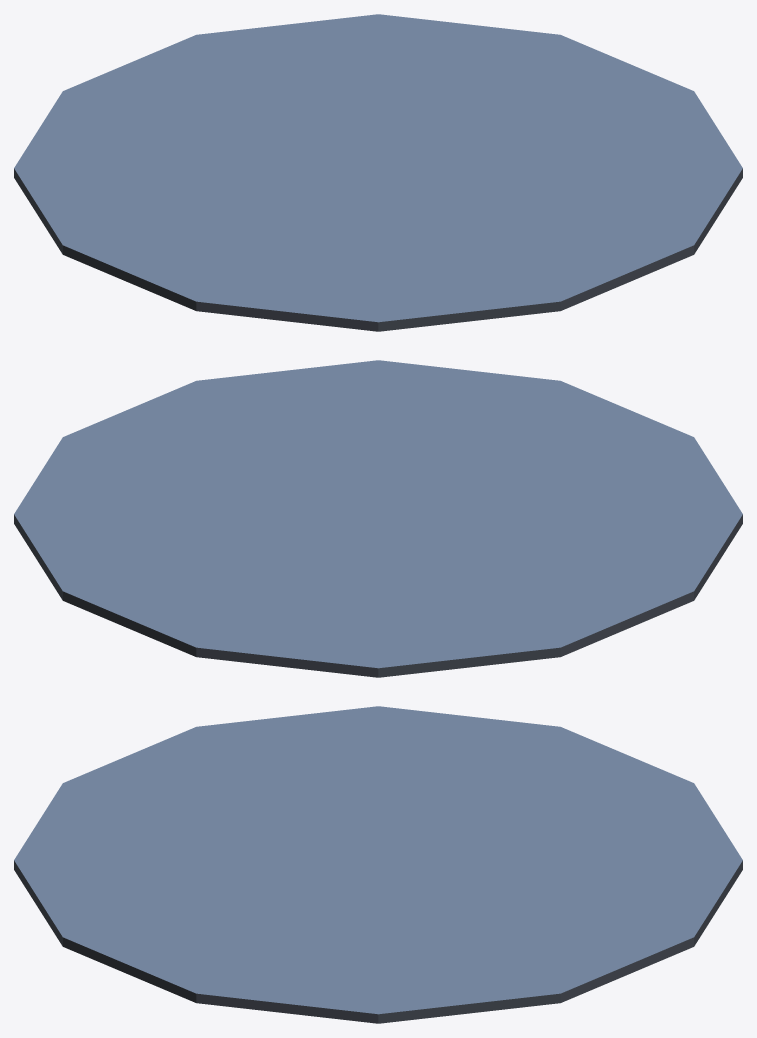
File: Arena.fbx
3 renders of one model, top to bottom at view 1: azimuth 30°, elevation 25°; view 2: azimuth 150°, elevation 25°; view 3: azimuth 270°, elevation 25°, orthographic.
Visible parts, largest first — view 1: Cylinder.002; view 2: Cylinder.002; view 3: Cylinder.002.
Part boxes in pixels (box(x1,y1,x2,y2)): Cylinder.002: box(14, 14, 742, 331); Cylinder.002: box(14, 360, 742, 677); Cylinder.002: box(14, 706, 742, 1023).
Size of the model in its own units: 1034 by 14.91 by 1034.
